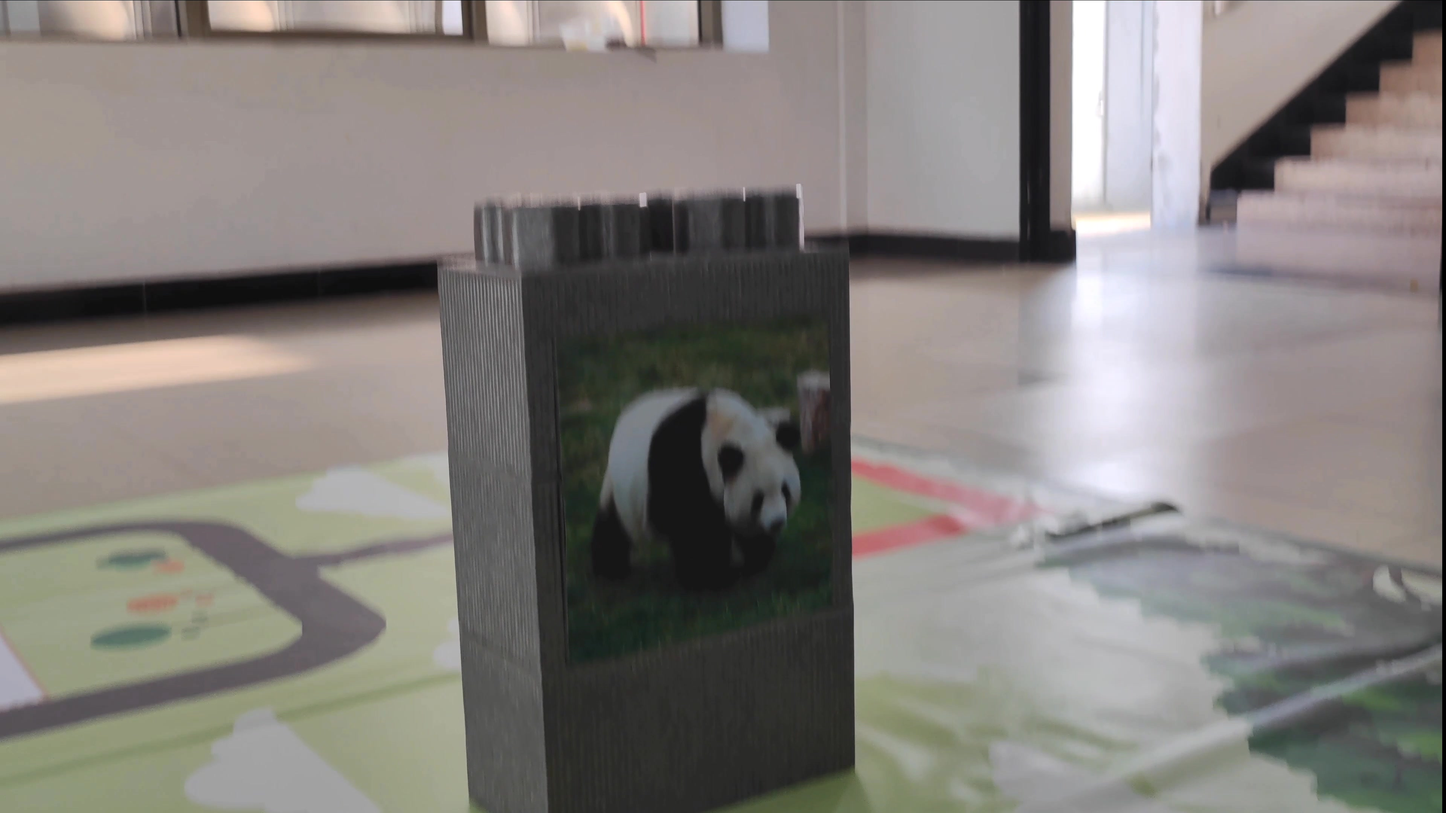panda: (567, 365, 826, 589)
